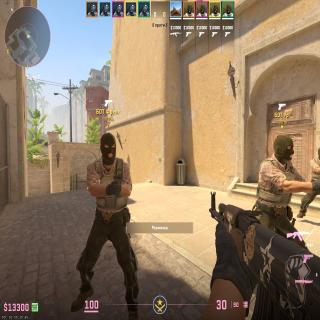T-Body: (86, 132, 133, 308), (255, 134, 304, 246), (296, 148, 320, 217)
T-Head: (274, 134, 294, 161), (100, 132, 116, 163), (318, 148, 320, 158)
